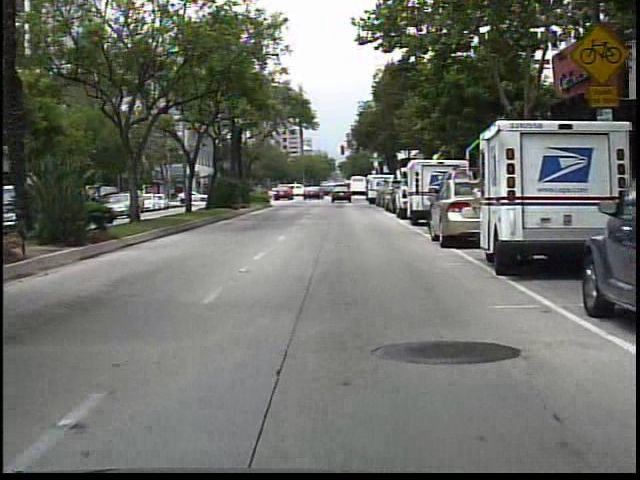person: (338, 183, 352, 203)
